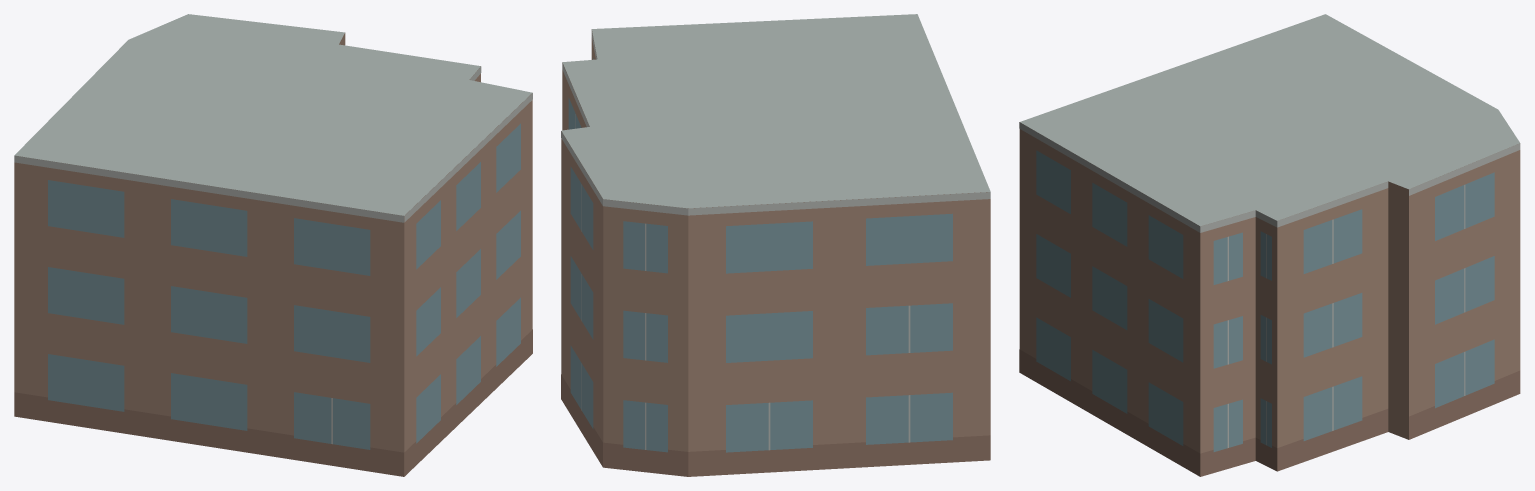
File: survey-upis-32692248.glb
3 renders of one model, left to right at view 1: azimuth 30°, elevation 25°; view 2: azimuth 150°, elevation 25°; view 3: azimuth 270°, elevation 25°, orthographic. The views are drawn at different scales.
Visible parts, largest first — view 1: survey-upis-32692248.tmp; view 2: survey-upis-32692248.tmp; view 3: survey-upis-32692248.tmp.
Boxes of the visible parts, left/top/right/bottom form: survey-upis-32692248.tmp: left=14, top=14, right=532, bottom=476; survey-upis-32692248.tmp: left=561, top=14, right=990, bottom=476; survey-upis-32692248.tmp: left=1019, top=14, right=1520, bottom=476.
Size of the model in its own units: 16.63 by 9.15 by 16.58.
